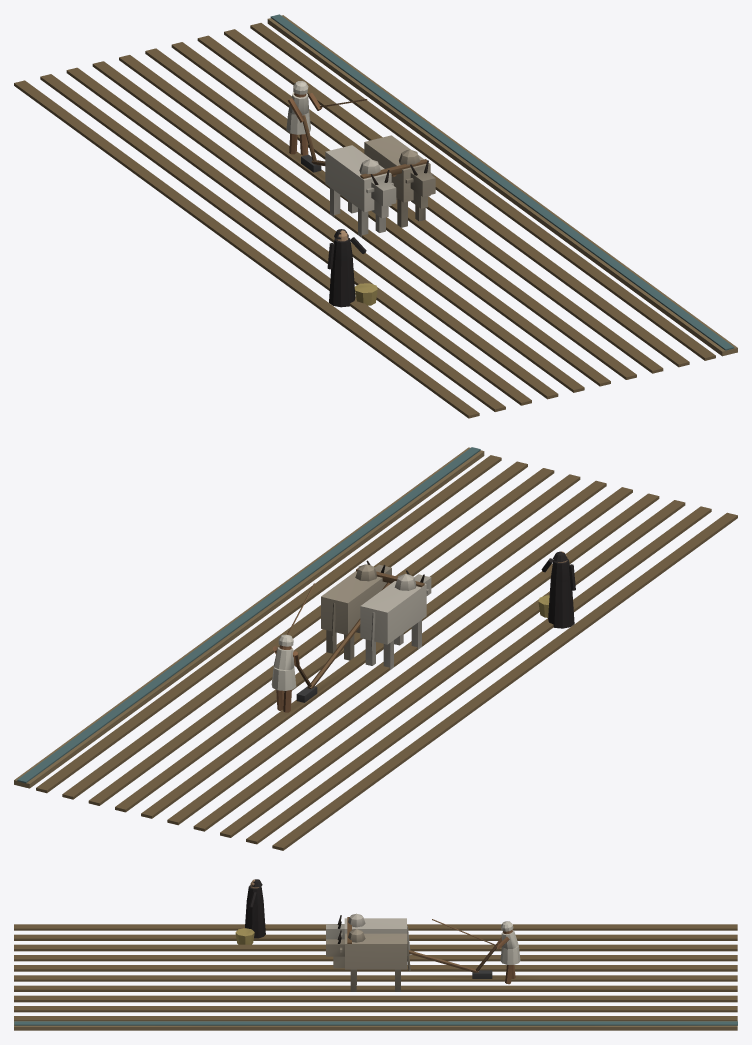
The model's file is farmer.glb.
3 renders of one model, top to bottom at view 1: azimuth 30°, elevation 25°; view 2: azimuth 150°, elevation 25°; view 3: azimuth 270°, elevation 25°, orthographic. The views are drawn at different scales.
Parts seen in each view (by area): view 1: base, anim_walk; view 2: base, anim_walk; view 3: base, anim_walk.
Part boxes in pixels (x1,y1,x2,y2): base: [14, 14, 737, 418]; anim_walk: [286, 81, 435, 237]; base: [14, 447, 737, 850]; anim_walk: [271, 560, 431, 712]; base: [14, 879, 737, 1030]; anim_walk: [326, 913, 520, 991].
Bounding box in the file's own units: 6.16 × 1.92 × 18.01.
